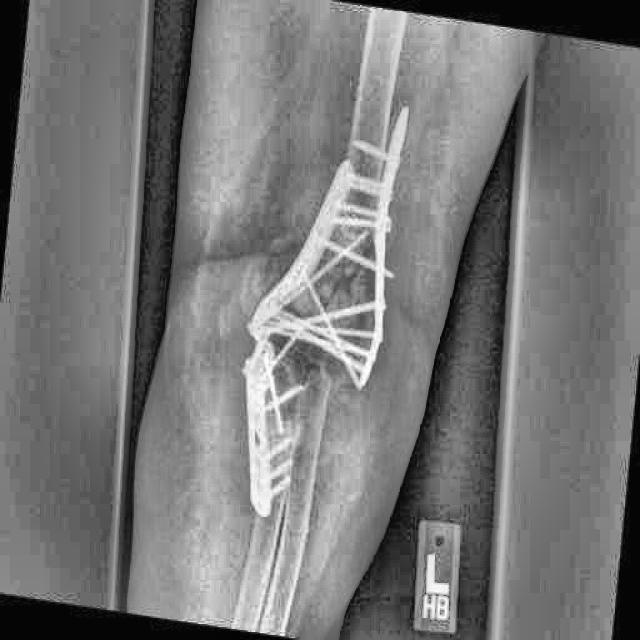elbow positive: (312, 254, 379, 317)
